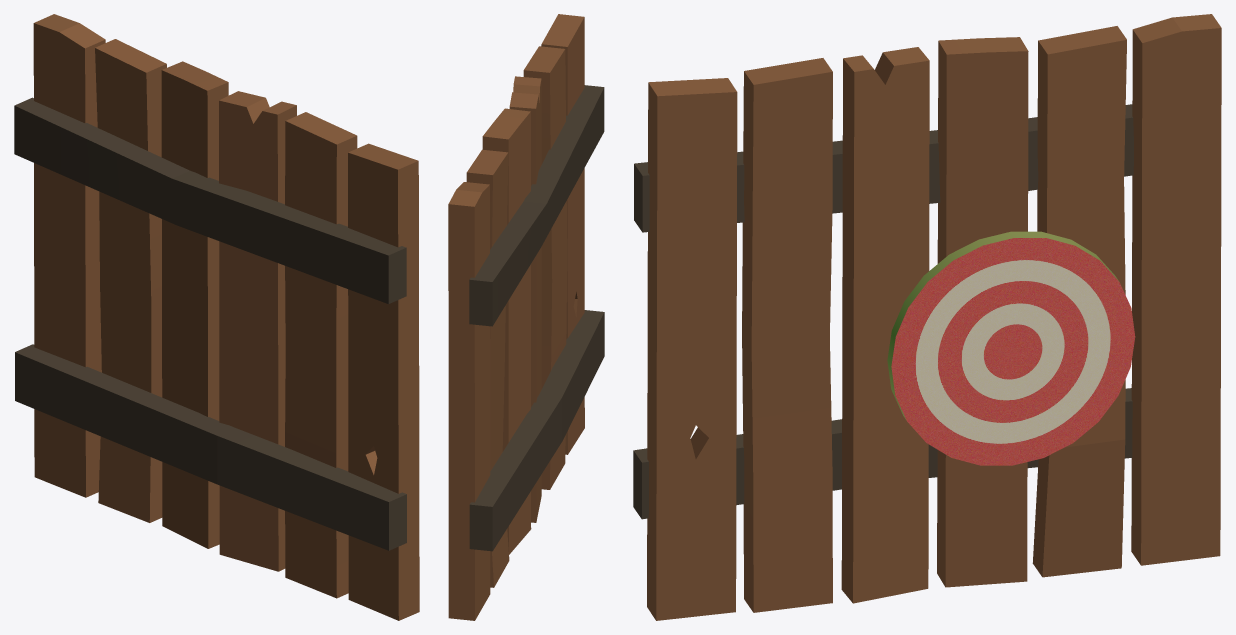
File: Fence_Breakable_A (3).fbx
The picture shows the model from 3 angles, left to right: view 1: azimuth 30°, elevation 25°; view 2: azimuth 150°, elevation 25°; view 3: azimuth 270°, elevation 25°; orthographic projection. The views are drawn at different scales.
Visible parts, largest first — view 1: Fence_Breakable_A (3); view 2: Fence_Breakable_A (3); view 3: Fence_Breakable_A (3), Target.
Boxes of the visible parts, <box> form: Fence_Breakable_A (3): <box>14,14,419,620</box>; Fence_Breakable_A (3): <box>448,14,604,620</box>; Fence_Breakable_A (3): <box>633,14,1221,620</box>; Target: <box>887,231,1135,465</box>.
Size of the model in its own units: 1.67 by 4.4 by 4.4.
Materials: 3 (2 with a texture image).
